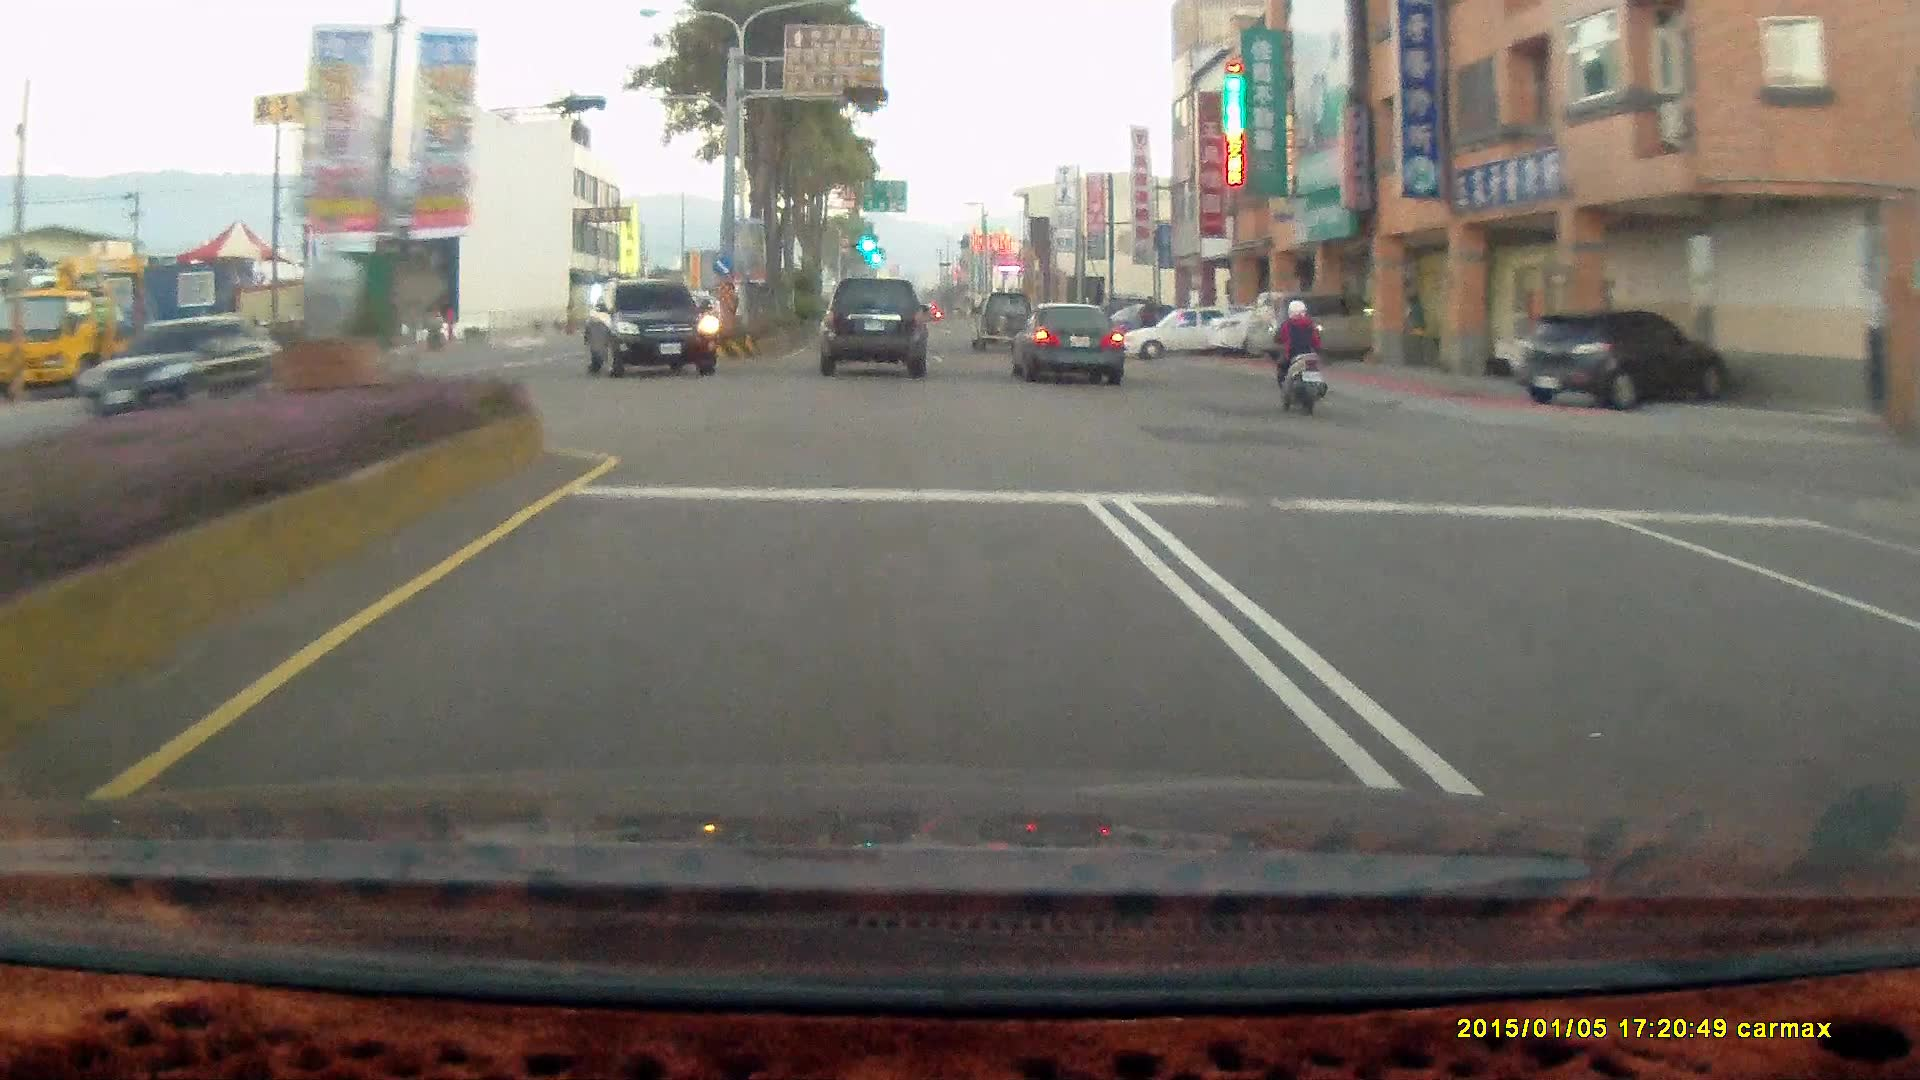pedestrian: (1404, 293, 1428, 362)
rider: (1258, 291, 1338, 424), (1270, 299, 1331, 413)
vehicle: (1, 283, 209, 396), (71, 315, 278, 425), (1519, 310, 1731, 413), (1518, 310, 1733, 408), (591, 278, 722, 378), (585, 279, 716, 377), (1245, 290, 1402, 364), (817, 276, 926, 376), (823, 279, 932, 379), (1242, 289, 1381, 364), (1009, 302, 1130, 385), (1007, 302, 1123, 386), (1132, 303, 1259, 365), (1121, 305, 1253, 360), (969, 290, 1038, 351)
